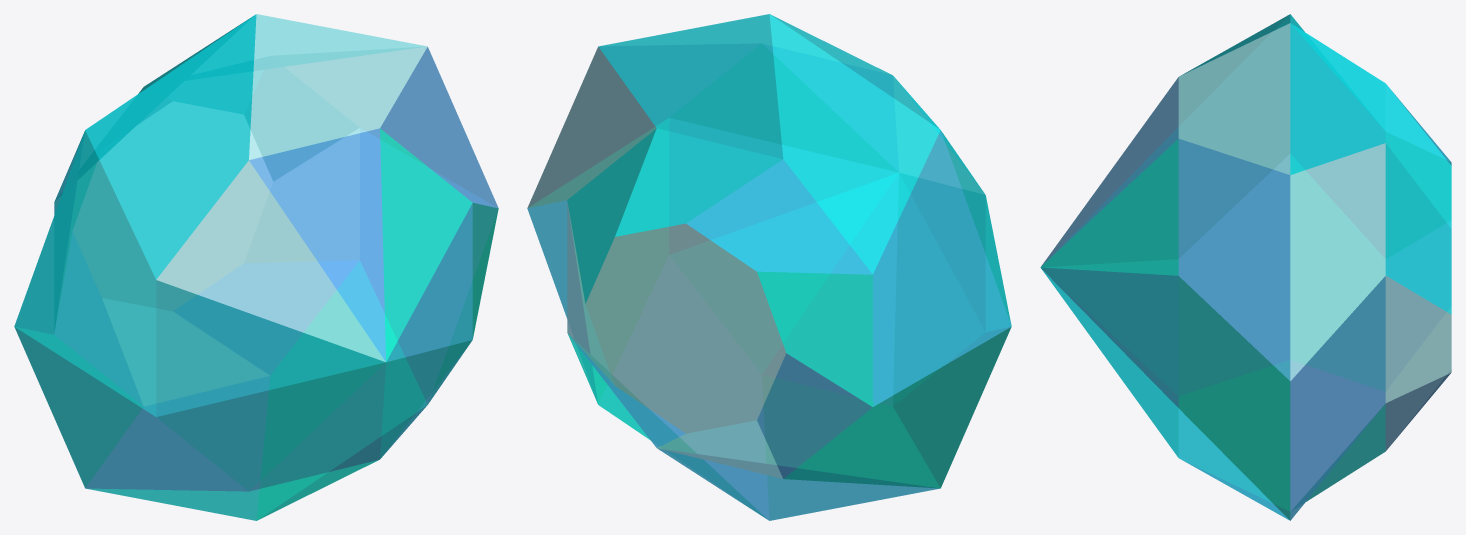
File: npc_8fbe719d.glb
3 renders of one model, left to right at view 1: azimuth 30°, elevation 25°; view 2: azimuth 150°, elevation 25°; view 3: azimuth 270°, elevation 25°, orthographic. The views are drawn at different scales.
Parts seen in each view (by area): view 1: npc_8fbe719d_simple_gemstone; view 2: npc_8fbe719d_simple_gemstone; view 3: npc_8fbe719d_simple_gemstone.
Part boxes in pixels (<box>): npc_8fbe719d_simple_gemstone: <box>14,14,498,520</box>; npc_8fbe719d_simple_gemstone: <box>527,14,1011,520</box>; npc_8fbe719d_simple_gemstone: <box>1040,14,1451,520</box>.
Bounding box in the file's own units: 1.64 × 1.64 × 1.25.
